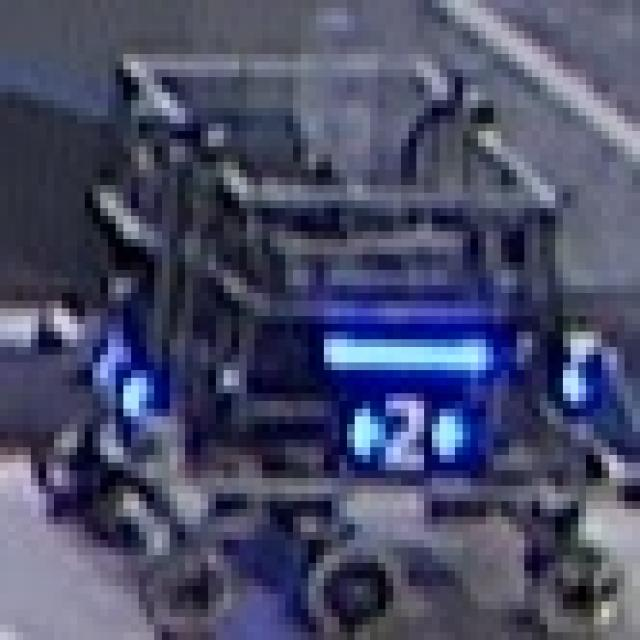B2: (347, 386, 455, 478)
